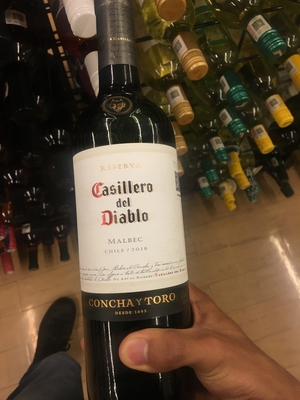casillero del diablo malbec: (57, 4, 203, 400)
